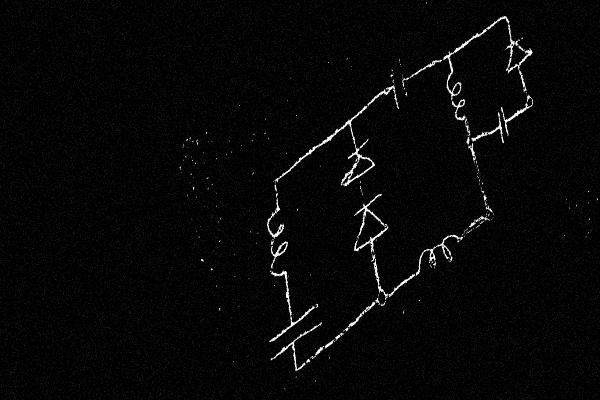capacitor: (262, 296, 327, 371), (384, 52, 416, 116), (491, 102, 513, 148)
diode: (344, 187, 395, 262), (334, 133, 381, 200), (498, 24, 536, 80)
inductor: (255, 192, 301, 295), (410, 219, 470, 288), (441, 61, 472, 136)
